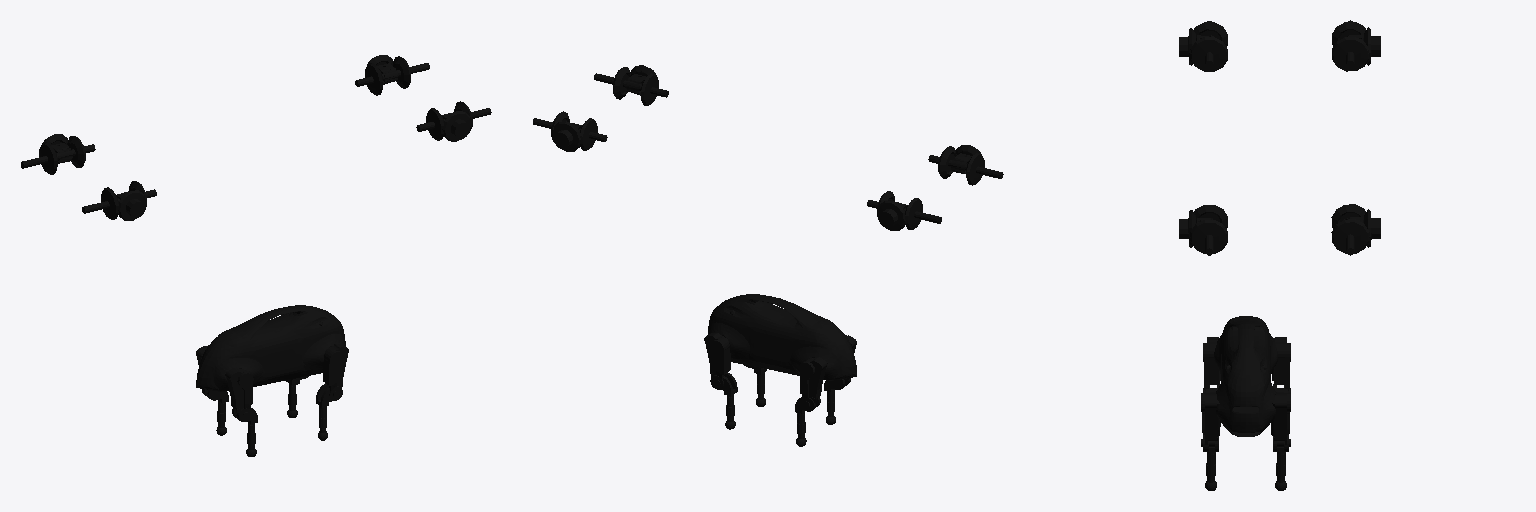
URDF robot description (littledog):
<?xml version="1.0" encoding="UTF-8"?>

<robot name="littledog" xmlns:xsi="http://www.w3.org/2001/XMLSchema-instance"
 xsi:schemaLocation="http://drake.mit.edu drake-distro/drake/doc/drakeURDF.xsd"
 xmlns="http://drake.mit.edu">

    <gazebo>
        <plugin name="gazebo_ros_control" filename="libgazebo_ros_control.so">
            <robotNamespace>/littledog</robotNamespace>
        </plugin>
    </gazebo>

  <link name="body">
    <inertial>
      <mass value="1.800000" />
      <inertia ixx="0.001625" ixy="0" ixz="0" iyy="0.009178" iyz="0" izz="0.008794" />
    </inertial>
    <collision>
        <origin xyz="0 0 0" rpy="0 0 0"/>
        <geometry>
        <mesh filename="package://littledog/urdf/meshes/body.stl" scale=".0254 .0254 .0254" />
        </geometry>
    </collision>
    <visual>
      <geometry>
        <mesh filename="package://littledog/urdf/meshes/body.stl" scale=".0254 .0254 .0254" />
      </geometry>
      <material name="black">
      	<color rgba="0.1 0.1 0.1 1" />
      </material>
    </visual>
  </link>

  <gazebo reference="body">
        <kp>1000.0</kp>
        <kd>1000.0</kd>
        <mu1>0.5</mu1>
        <mu2>0.5</mu2>
        <!--<material>Gazebo/Blue</material>-->
  </gazebo>

  <link name="front_left_hip">
    <inertial>
      <origin xyz="0.000000 0.002900 0.000000" rpy="0 0 0" />
      <mass value="0.062300" />
      <inertia ixx="0.000004" ixy="0" ixz="0" iyy="0.000015" iyz="0" izz="0.000015" />
    </inertial>
    <collision>
        <origin xyz="0 0 0" rpy="0 0 0"/>
        <geometry>
          <mesh filename="package://littledog/urdf/meshes/front_left_hip.stl" scale=".0254 .0254 .0254"/>
        </geometry>
    </collision>
    <visual>
      <origin xyz="0 0 0" rpy="0 0 0" />
      <geometry>
        <mesh filename="package://littledog/urdf/meshes/front_left_hip.stl" scale=".0254 .0254 .0254"/>
      </geometry>
      <material name="black" />
    </visual>
  </link>

  <gazebo reference="front_left_hip">
        <kp>1000.0</kp>
        <kd>1000.0</kd>
        <mu1>0.5</mu1>
        <mu2>0.5</mu2>
        <material>Gazebo/Blue</material>
  </gazebo>

  <joint name="front_left_hip_roll" type="revolute">
    <parent link="body" />
    <child link="front_left_hip" />
    <origin xyz="0.101000 0.036250 0.000000" />
    <axis xyz="1 0 0" />
    <limit lower="-0.6" upper="0.6" effort="0.1" velocity="0.005"/>
  </joint>
  

  
  <link name="front_left_upper_leg">
    <inertial>
      <origin xyz="0.000000 0.000000 -0.016600" rpy="0 0 0" />
      <mass value="0.127900" />
      <inertia ixx="0.000082" ixy="0" ixz="0" iyy="0.000089" iyz="0" izz="0.000015" />
    </inertial>
    <collision>
        <origin xyz="0 0 0" rpy="0 0 0"/>
        <geometry>
        <mesh filename="package://littledog/urdf/meshes/front_left_upper.stl" scale=".0254 .0254 .0254"/>
        </geometry>
    </collision>
    <visual>
      <origin xyz="0 0 0" rpy="0 0 0" />
      <geometry>
        <mesh filename="package://littledog/urdf/meshes/front_left_upper.stl" scale=".0254 .0254 .0254"/>
      </geometry>
      <material name="black" />
    </visual>
  </link>

    <gazebo reference="front_left_upper_leg">
        <kp>1000.0</kp>
        <kd>1000.0</kd>
        <mu1>0.5</mu1>
        <mu2>0.5</mu2>
        <material>Gazebo/Blue</material>
    </gazebo>


  <joint name="front_left_hip_pitch" type="revolute">
    <parent link="front_left_hip" />
    <child link="front_left_upper_leg" />
    <origin xyz="0 0.0236 0" />
    <axis xyz="0 1 0" />
    <limit lower="-3.5" upper="2.4" effort="0.1" velocity="0.005"/>
  </joint>  

  
  <link name="front_left_lower_leg"> 
    <inertial>
      <origin xyz="0.000000 0.000000 -0.020200" rpy="0 0 0" />
      <mass value="0.046400" />
      <inertia ixx="0.000038" ixy="0" ixz="0" iyy="0.000035" iyz="0" izz="0.000004" />
    </inertial>
    <collision>
        <origin xyz="0 0 0" rpy="0 0 0"/>
        <geometry>
        <mesh filename="package://littledog/urdf/meshes/front_left_lower.stl" scale="0.0254 0.0254 0.0254"/>
        </geometry>
    </collision>
    <visual>
      <origin xyz="0 0 0" rpy="0 0 0" />
      <geometry>
        <mesh filename="package://littledog/urdf/meshes/front_left_lower.stl" scale="0.0254 0.0254 0.0254"/>
      </geometry>
      <material name="black" />
    </visual>  
  </link>
  
  <gazebo reference="front_left_lower_leg">
        <kp>1000.0</kp>
        <kd>1000.0</kd>
        <mu1>0.5</mu1>
        <mu2>0.5</mu2>
        <material>Gazebo/Blue</material>
  </gazebo>

  <joint name="front_left_knee" type="revolute">
    <parent link="front_left_upper_leg" />
    <child link="front_left_lower_leg" />
    <origin xyz="0 0 -0.0751" />
    <axis xyz="0 1 0" />
    <limit lower="-3.1" upper="1.0" effort="0.1" velocity="0.005"/>
  </joint>


  <!-- <frame link="front_left_lower_leg" name="front_left_foot_center" xyz="-0.0265 0 -0.0985"/> -->

  <link name="front_right_hip">
    <inertial>
      <origin xyz="0.000000 -0.002900 0.000000" rpy="0 0 0" />
      <mass value="0.062300" />
      <inertia ixx="0.000004" ixy="0" ixz="0" iyy="0.000015" iyz="0" izz="0.000015" />
    </inertial>
    <collision>
        <origin xyz="0 0 0" rpy="0 0 0"/>
        <geometry>
        <mesh filename="package://littledog/urdf/meshes/front_right_hip.stl" scale="0.0254 0.0254 0.0254"/>
        </geometry>
    </collision>
    <visual>
      <origin xyz="0 0 0" rpy="0 0 0" />
      <geometry>
        <mesh filename="package://littledog/urdf/meshes/front_right_hip.stl" scale="0.0254 0.0254 0.0254"/>
      </geometry>
      <material name="black" />
    </visual>
   </link>
  <gazebo reference="front_right_hip">
        <kp>1000.0</kp>
        <kd>1000.0</kd>
        <mu1>0.5</mu1>
        <mu2>0.5</mu2>
        <material>Gazebo/Blue</material>
  </gazebo>

  <joint name="front_right_hip_roll" type="revolute">
    <parent link="body" />
    <child link="front_right_hip" />
    <origin xyz="0.101000 -0.036250 0.000000" />
    <axis xyz="1 0 0" />
    <limit lower="-.6" upper=".6" effort="0.1" velocity="0.005"/>
  </joint>
  

  <link name="front_right_upper_leg">
    <inertial>
      <origin xyz="0.000000 0.000000 -0.016600" rpy="0 0 0" />
      <mass value="0.127900" />
      <inertia ixx="0.000082" ixy="0" ixz="0" iyy="0.000089" iyz="0" izz="0.000015" />
    </inertial>
    <collision>
        <origin xyz="0 0 0" rpy="0 0 0"/>
        <geometry>
        <mesh filename="package://littledog/urdf/meshes/front_right_upper.stl" scale="0.0254 0.0254 0.0254"/>
        </geometry>
    </collision>
    <visual>
      <origin xyz="0 0 0" rpy="0 0 0" />
      <geometry>
        <mesh filename="package://littledog/urdf/meshes/front_right_upper.stl" scale="0.0254 0.0254 0.0254"/>
      </geometry>
      <material name="black"/>
    </visual>
  </link>

    <gazebo reference="front_right_upper_leg">
        <kp>1000.0</kp>
        <kd>1000.0</kd>
        <mu1>0.5</mu1>
        <mu2>0.5</mu2>
        <material>Gazebo/Blue</material>
    </gazebo>

  <joint name="front_right_hip_pitch" type="revolute">
    <parent link="front_right_hip" />
    <child link="front_right_upper_leg" />
    <origin xyz="0 -0.0236 0" />
    <axis xyz="0 1 0" />
    <limit lower="-3.5" upper="2.4" effort="0.1" velocity="0.005"/>
  </joint>
  
  
  <link name="front_right_lower_leg"> 
    <inertial>
      <origin xyz="0.000000 0.000000 -0.020200" rpy="0 0 0" />
      <mass value="0.046400" />
      <inertia ixx="0.000038" ixy="0" ixz="0" iyy="0.000035" iyz="0" izz="0.000004" />
    </inertial>
    <collision>
        <origin xyz="0 0 0" rpy="0 0 0"/>
        <geometry>
        <mesh filename="package://littledog/urdf/meshes/front_right_lower.stl" scale="0.0254 0.0254 0.0254"/>
        </geometry>
    </collision>
    <visual>
      <origin xyz="0 0 0" rpy="0 0 0" />
      <geometry>
        <mesh filename="package://littledog/urdf/meshes/front_right_lower.stl" scale="0.0254 0.0254 0.0254"/>
      </geometry>
      <material name="black"/>
    </visual> 
  </link>

    <gazebo reference="front_right_lower_leg">
        <kp>1000.0</kp>
        <kd>1000.0</kd>
        <mu1>0.5</mu1>
        <mu2>0.5</mu2>
        <material>Gazebo/Blue</material>
    </gazebo>

  <joint name="front_right_knee" type="revolute">
    <parent link="front_right_upper_leg" />
    <child link="front_right_lower_leg" />
    <origin xyz="0 0 -0.0751" />
    <axis xyz="0 1 0" />
    <limit lower="-3.1" upper="1.0" effort="0.1" velocity="0.005"/>
  </joint>
  
  
  <!-- <frame link="front_right_lower_leg" name="front_right_foot_center" xyz="-0.0265 0 -0.0985"/> -->
  
  <link name="back_left_hip">
    <inertial>
      <origin xyz="0.000000 0.002900 0.000000" rpy="0 0 0" />
      <mass value="0.062300" />
      <inertia ixx="0.000004" ixy="0" ixz="0" iyy="0.000015" iyz="0" izz="0.000015" />
    </inertial>
    <collision>
        <origin xyz="0 0 0" rpy="0 0 0"/>
        <geometry>
        <mesh filename="package://littledog/urdf/meshes/back_left_hip.stl" scale="0.0254 0.0254 0.0254"/>
        </geometry>
    </collision>
    <visual>
      <origin xyz="0 0 0" rpy="0 0 0" />
      <geometry>
        <mesh filename="package://littledog/urdf/meshes/back_left_hip.stl" scale="0.0254 0.0254 0.0254"/>
      </geometry>
      <material name="black" />
    </visual>
  </link>

    <gazebo reference="back_left_hip">
        <kp>1000.0</kp>
        <kd>1000.0</kd>
        <mu1>0.5</mu1>
        <mu2>0.5</mu2>
        <material>Gazebo/Blue</material>
    </gazebo>

  <joint name="back_left_hip_roll" type="revolute">
    <parent link="body" />
    <child link="back_left_hip" />
    <origin xyz="-0.101000 0.036250 0.000000" />
    <axis xyz="1 0 0" />
    <limit lower="-.6" upper=".6" effort="0.1" velocity="0.005"/>
  </joint>
   
  <link name="back_left_upper_leg">
    <inertial>
      <origin xyz="0.000000 0.000000 -0.016600" rpy="0 0 0" />
      <mass value="0.127900" />
      <inertia ixx="0.000082" ixy="0" ixz="0" iyy="0.000089" iyz="0" izz="0.000015" />
    </inertial>
    <collision>
        <origin xyz="0 0 0" rpy="0 0 0"/>
        <geometry>
        <mesh filename="package://littledog/urdf/meshes/back_left_upper.stl" scale="0.0254 0.0254 0.0254"/>
        </geometry>
    </collision>

    <visual>
      <origin xyz="0 0 0" rpy="0 0 0" />
      <geometry>
        <mesh filename="package://littledog/urdf/meshes/back_left_upper.stl" scale="0.0254 0.0254 0.0254"/>
      </geometry>
      <material name="black" />
    </visual>
  </link>
    <gazebo reference="back_left_upper_leg">
        <kp>1000.0</kp>
        <kd>1000.0</kd>
        <mu1>0.5</mu1>
        <mu2>0.5</mu2>
        <material>Gazebo/Blue</material>
    </gazebo>

  <joint name="back_left_hip_pitch" type="revolute">
    <parent link="back_left_hip" />
    <child link="back_left_upper_leg" />
    <origin xyz="0 0.0236 0" />
    <axis xyz="0 1 0" />
    <limit lower="-2.4" upper="3.5" effort="0.1" velocity="0.005"/>
  </joint>
  
  
  <link name="back_left_lower_leg"> 
    <inertial>
      <origin xyz="0.000000 0.000000 -0.020200" rpy="0 0 0" />
      <mass value="0.046400" />
      <inertia ixx="0.000038" ixy="0" ixz="0" iyy="0.000035" iyz="0" izz="0.000004" />
    </inertial>
    <collision>
        <origin xyz="0 0 0" rpy="0 0 0"/>
        <geometry>
        <mesh filename="package://littledog/urdf/meshes/back_left_lower.stl" scale="0.0254 0.0254 0.0254"/>
        </geometry>
    </collision>
    <visual>
      <origin xyz="0 0 0" rpy="0 0 0" />
      <geometry>
        <mesh filename="package://littledog/urdf/meshes/back_left_lower.stl" scale="0.0254 0.0254 0.0254"/>
      </geometry>
      <material name="black" />
    </visual>
  </link>

  <gazebo reference="back_left_lower_leg">
        <kp>1000.0</kp>
        <kd>1000.0</kd>
        <mu1>0.5</mu1>
        <mu2>0.5</mu2>
        <material>Gazebo/Blue</material>
  </gazebo>

  <joint name="back_left_knee" type="revolute">
    <parent link="back_left_upper_leg" />
    <child link="back_left_lower_leg" />
    <origin xyz="0 0 -0.0751" />
    <axis xyz="0 1 0" />
    <limit lower="-1.0" upper="3.1" effort="0.1" velocity="0.005"/>
  </joint>

  
  <!-- <frame link="back_left_lower_leg" name="back_left_foot_center" xyz="0.0265 0 -0.0985"/> -->
  
  <link name="back_right_hip">
    <inertial>
      <origin xyz="0.000000 -0.002900 0.000000" rpy="0 0 0" />
      <mass value="0.062300" />
      <inertia ixx="0.000004" ixy="0" ixz="0" iyy="0.000015" iyz="0" izz="0.000015" />
    </inertial>
    <collision>
        <origin xyz="0 0 0" rpy="0 0 0"/>
        <geometry>
        <mesh filename="package://littledog/urdf/meshes/back_right_hip.stl" scale="0.0254 0.0254 0.0254"/>
        </geometry>
    </collision>
    <visual>
      <origin xyz="0 0 0" rpy="0 0 0" />
      <geometry>
        <mesh filename="package://littledog/urdf/meshes/back_right_hip.stl" scale="0.0254 0.0254 0.0254"/>
      </geometry>
      <material name="black" />
    </visual>
  </link>

  <gazebo reference="back_right_hip">
        <kp>1000.0</kp>
        <kd>1000.0</kd>
        <mu1>0.5</mu1>
        <mu2>0.5</mu2>
        <material>Gazebo/Blue</material>
  </gazebo>

  <joint name="back_right_hip_roll" type="revolute">
    <parent link="body" />
    <child link="back_right_hip" />
    <origin xyz="-0.101000 -0.036250 0.000000" />
    <axis xyz="1 0 0" />
    <limit lower="-.6" upper=".6" effort="0.1" velocity="0.005"/>
  </joint>
    
  <link name="back_right_upper_leg">
    <inertial>
      <origin xyz="0.000000 0.000000 -0.016600" rpy="0 0 0" />
      <mass value="0.127900" />
      <inertia ixx="0.000082" ixy="0" ixz="0" iyy="0.000089" iyz="0" izz="0.000015" />
    </inertial>
    <collision>
        <origin xyz="0 0 0" rpy="0 0 0"/>
        <geometry>
        <mesh filename="package://littledog/urdf/meshes/back_right_upper.stl" scale="0.0254 0.0254 0.0254"/>
        </geometry>
    </collision>    
    <visual>
      <origin xyz="0 0 0" rpy="0 0 0" />
      <geometry>
        <mesh filename="package://littledog/urdf/meshes/back_right_upper.stl" scale="0.0254 0.0254 0.0254"/>
      </geometry>
      <material name="black" />
    </visual>
  </link>

  <gazebo reference="back_right_upper_leg">
        <kp>1000.0</kp>
        <kd>1000.0</kd>
        <mu1>0.5</mu1>
        <mu2>0.5</mu2>
        <material>Gazebo/Blue</material>
  </gazebo>

  <joint name="back_right_hip_pitch" type="revolute">
    <parent link="back_right_hip" />
    <child link="back_right_upper_leg" />
    <origin xyz="0 -0.0207 0" />
    <axis xyz="0 1 0" />
    <limit lower="-2.4" upper="3.5" effort="0.1" velocity="0.005"/>
  </joint>
  
  
  <link name="back_right_lower_leg"> 
    <inertial>
      <origin xyz="0.000000 0.000000 -0.020200" rpy="0 0 0" />
      <mass value="0.046400" />
      <inertia ixx="0.000038" ixy="0" ixz="0" iyy="0.000035" iyz="0" izz="0.000004" />
    </inertial>
    <collision>
        <origin xyz="0 0 0" rpy="0 0 0"/>
        <geometry>
        <mesh filename="package://littledog/urdf/meshes/back_right_lower.stl" scale="0.0254 0.0254 0.0254"/>
        </geometry>
    </collision>        
    <visual>
      <origin xyz="0 0 0" rpy="0 0 0" />
      <geometry>
        <mesh filename="package://littledog/urdf/meshes/back_right_lower.stl" scale="0.0254 0.0254 0.0254"/>
      </geometry>
      <material name="black" />
    </visual>
  </link>
  <gazebo reference="back_right_lower_leg">
        <kp>1000.0</kp>
        <kd>1000.0</kd>
        <mu1>0.5</mu1>
        <mu2>0.5</mu2>
        <material>Gazebo/Blue</material>
  </gazebo>

  <joint name="back_right_knee" type="revolute">
    <parent link="back_right_upper_leg" />
    <child link="back_right_lower_leg" />
    <origin xyz="0 0 -0.0751" />
    <axis xyz="0 1 0" />
    <limit lower="-1.0" upper="3.1" effort="0.1" velocity="0.005"/>
  </joint>
  
  <!-- <frame link="back_right_lower_leg" name="back_right_foot_center" xyz="0.0265 0 -0.0985"/> -->

     <transmission name="front_left_hip_roll_trans">
      <type>transmission_interface/SimpleTransmission</type>
      <joint name="front_left_hip_roll">
        <hardwareInterface>hardware_interface/EffortJointInterface</hardwareInterface>
      </joint>
      <actuator name="front_left_hip_roll_Motor">
        <hardwareInterface>hardware_interface/EffortJointInterface</hardwareInterface>
        <mechanicalReduction>1</mechanicalReduction>
      </actuator>
    </transmission>

    <transmission name="front_left_hip_pitch_trans">
      <type>transmission_interface/SimpleTransmission</type>
      <joint name="front_left_hip_pitch">
        <hardwareInterface>hardware_interface/EffortJointInterface</hardwareInterface>
      </joint>
      <actuator name="front_left_hip_pitch_Motor">
        <hardwareInterface>hardware_interface/EffortJointInterface</hardwareInterface>
        <mechanicalReduction>1</mechanicalReduction>
      </actuator>
    </transmission>

    <transmission name="front_left_knee_trans">
      <type>transmission_interface/SimpleTransmission</type>
      <joint name="front_left_knee">
        <hardwareInterface>hardware_interface/EffortJointInterface</hardwareInterface>
      </joint>
      <actuator name="front_left_knee_Motor">
        <hardwareInterface>hardware_interface/EffortJointInterface</hardwareInterface>
        <mechanicalReduction>1</mechanicalReduction>
      </actuator>
    </transmission>

    <transmission name="front_right_hip_pitch_trans">
      <type>transmission_interface/SimpleTransmission</type>
      <joint name="front_right_hip_pitch">
        <hardwareInterface>hardware_interface/EffortJointInterface</hardwareInterface>
      </joint>
      <actuator name="front_right_hip_pitch_Motor">
        <hardwareInterface>hardware_interface/EffortJointInterface</hardwareInterface>
        <mechanicalReduction>1</mechanicalReduction>
      </actuator>
    </transmission>

    <transmission name="front_right_hip_roll_trans">
      <type>transmission_interface/SimpleTransmission</type>
      <joint name="front_right_hip_roll">
        <hardwareInterface>hardware_interface/EffortJointInterface</hardwareInterface>
      </joint>
      <actuator name="front_right_hip_roll_Motor">
        <hardwareInterface>hardware_interface/EffortJointInterface</hardwareInterface>
        <mechanicalReduction>1</mechanicalReduction>
      </actuator>
    </transmission>

    <transmission name="front_right_knee_trans">
      <type>transmission_interface/SimpleTransmission</type>
      <joint name="front_right_knee">
        <hardwareInterface>hardware_interface/EffortJointInterface</hardwareInterface>
      </joint>
      <actuator name="front_right_knee_Motor">
        <hardwareInterface>hardware_interface/EffortJointInterface</hardwareInterface>
        <mechanicalReduction>1</mechanicalReduction>
      </actuator>
    </transmission>

    <transmission name="back_left_hip_roll_trans">
      <type>transmission_interface/SimpleTransmission</type>
      <joint name="back_left_hip_roll">
        <hardwareInterface>hardware_interface/EffortJointInterface</hardwareInterface>
      </joint>
      <actuator name="back_left_hip_roll_Motor">
        <hardwareInterface>hardware_interface/EffortJointInterface</hardwareInterface>
        <mechanicalReduction>1</mechanicalReduction>
      </actuator>
    </transmission>

    <transmission name="back_left_hip_pitch_trans">
      <type>transmission_interface/SimpleTransmission</type>
      <joint name="back_left_hip_pitch">
        <hardwareInterface>hardware_interface/EffortJointInterface</hardwareInterface>
      </joint>
      <actuator name="back_left_hip_pitch_Motor">
        <hardwareInterface>hardware_interface/EffortJointInterface</hardwareInterface>
        <mechanicalReduction>1</mechanicalReduction>
      </actuator>
    </transmission>

    <transmission name="back_left_knee_trans">
      <type>transmission_interface/SimpleTransmission</type>
      <joint name="back_left_knee">
        <hardwareInterface>hardware_interface/EffortJointInterface</hardwareInterface>
      </joint>
      <actuator name="back_left_knee_Motor">
        <hardwareInterface>hardware_interface/EffortJointInterface</hardwareInterface>
        <mechanicalReduction>1</mechanicalReduction>
      </actuator>
    </transmission>

    <transmission name="back_right_hip_pitch_trans">
      <type>transmission_interface/SimpleTransmission</type>
      <joint name="back_right_hip_pitch">
        <hardwareInterface>hardware_interface/EffortJointInterface</hardwareInterface>
      </joint>
      <actuator name="back_right_hip_pitch_Motor">
        <hardwareInterface>hardware_interface/EffortJointInterface</hardwareInterface>
        <mechanicalReduction>1</mechanicalReduction>
      </actuator>
    </transmission>

    <transmission name="back_right_hip_roll_trans">
      <type>transmission_interface/SimpleTransmission</type>
      <joint name="back_right_hip_roll">
        <hardwareInterface>hardware_interface/EffortJointInterface</hardwareInterface>
      </joint>
      <actuator name="back_right_hip_roll_Motor">
        <hardwareInterface>hardware_interface/EffortJointInterface</hardwareInterface>
        <mechanicalReduction>1</mechanicalReduction>
      </actuator>
    </transmission>

    <transmission name="back_right_knee_trans">
      <type>transmission_interface/SimpleTransmission</type>
      <joint name="back_right_knee">
        <hardwareInterface>hardware_interface/EffortJointInterface</hardwareInterface>
      </joint>
      <actuator name="back_right_knee_Motor">
        <hardwareInterface>hardware_interface/EffortJointInterface</hardwareInterface>
        <mechanicalReduction>1</mechanicalReduction>
      </actuator>
    </transmission> 
</robot>

--- Render facts (derived) ---
The picture shows the robot from 3 angles, left to right: view 1: azimuth 30°, elevation 25°; view 2: azimuth 150°, elevation 25°; view 3: azimuth 270°, elevation 25°; orthographic projection.
Model littledog with 13 links and 12 joints (12 revolute), rooted at body, posed every joint at zero.
Links seen in each view (by area): view 1: body, back_left_hip, front_left_hip, front_right_hip, back_right_hip, back_right_upper_leg, front_right_upper_leg, front_right_lower_leg; view 2: body, back_right_hip, front_right_hip, front_left_hip, back_left_hip, back_left_upper_leg, front_left_upper_leg, front_left_lower_leg; view 3: body, front_left_hip, back_right_hip, back_left_hip, front_right_hip, front_right_upper_leg, front_left_upper_leg, back_left_upper_leg, back_right_upper_leg, front_left_lower_leg.
Link boxes in pixels (<box>): body: <box>196,305,345,391</box>; back_left_hip: <box>21,134,95,174</box>; front_left_hip: <box>355,55,429,95</box>; front_right_hip: <box>416,101,491,141</box>; back_right_hip: <box>82,181,156,220</box>; back_right_upper_leg: <box>225,368,253,421</box>; front_right_upper_leg: <box>323,344,348,400</box>; front_right_lower_leg: <box>316,383,339,440</box>; body: <box>707,294,856,380</box>; back_right_hip: <box>928,145,1003,185</box>; front_right_hip: <box>594,65,668,105</box>; front_left_hip: <box>533,111,607,151</box>; back_left_hip: <box>867,191,941,230</box>; back_left_upper_leg: <box>799,357,827,411</box>; front_left_upper_leg: <box>704,333,730,389</box>; front_left_lower_leg: <box>714,372,737,429</box>; body: <box>1214,316,1277,436</box>; front_left_hip: <box>1331,204,1380,255</box>; back_right_hip: <box>1179,21,1227,71</box>; back_left_hip: <box>1332,20,1380,71</box>; front_right_hip: <box>1179,205,1227,255</box>; front_right_upper_leg: <box>1201,393,1220,451</box>; front_left_upper_leg: <box>1271,393,1290,451</box>; back_left_upper_leg: <box>1272,337,1290,392</box>; back_right_upper_leg: <box>1203,337,1220,392</box>; front_left_lower_leg: <box>1273,435,1290,490</box>.
Size in the robot's own frame: 0.9172 by 0.3452 by 0.6575 metres.
Meshes: 13 distinct files referenced, 13 mesh visuals loaded (13 binary STL).
